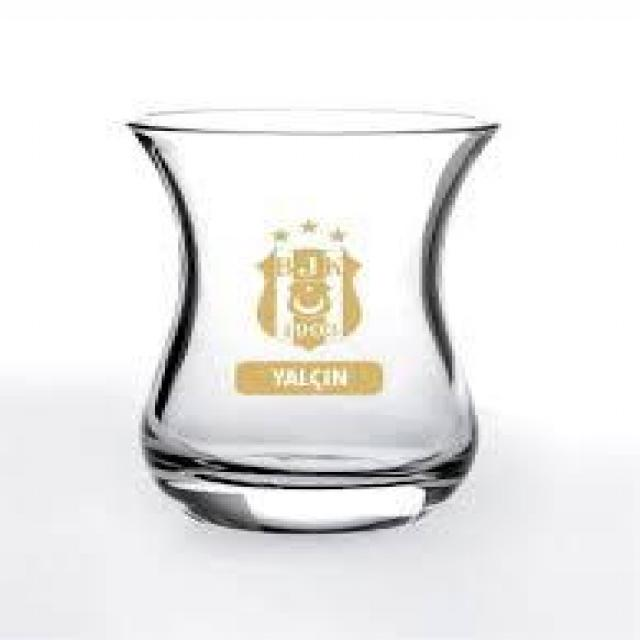non-organic waste: (97, 96, 510, 544)
